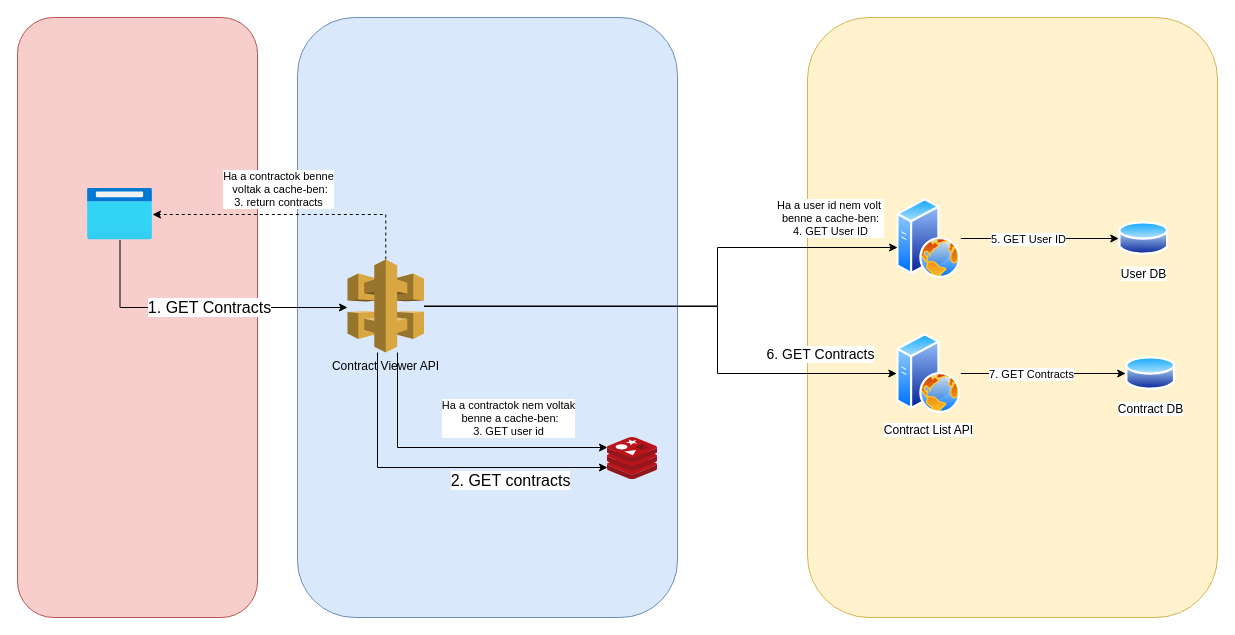
This 1235x635 diagram has some shape labels left out. The shapes that lost their labels are listed below. From the top down, each one's centre as x and y in pixels, then its label:
At point 119,214: "Client".
At point 928,238: "User API".
